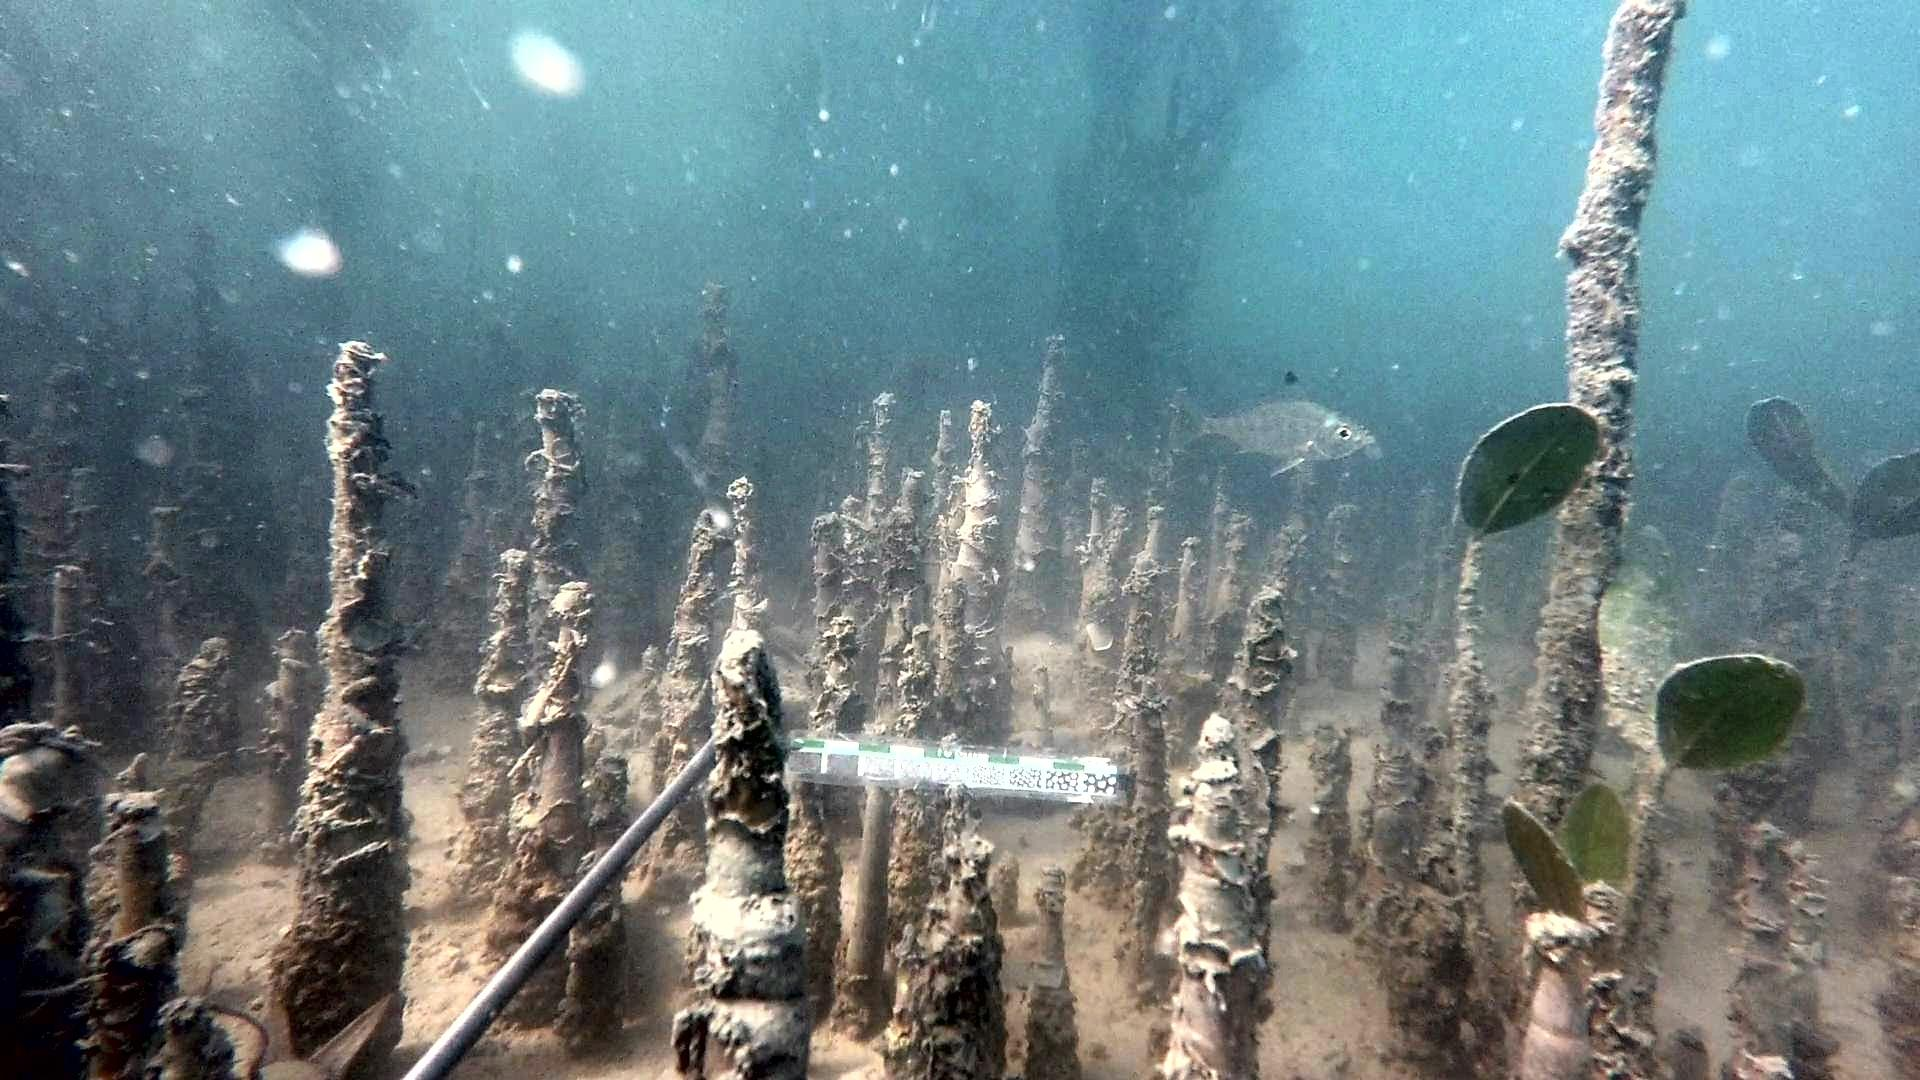gerres: (1172, 371, 1378, 477)
